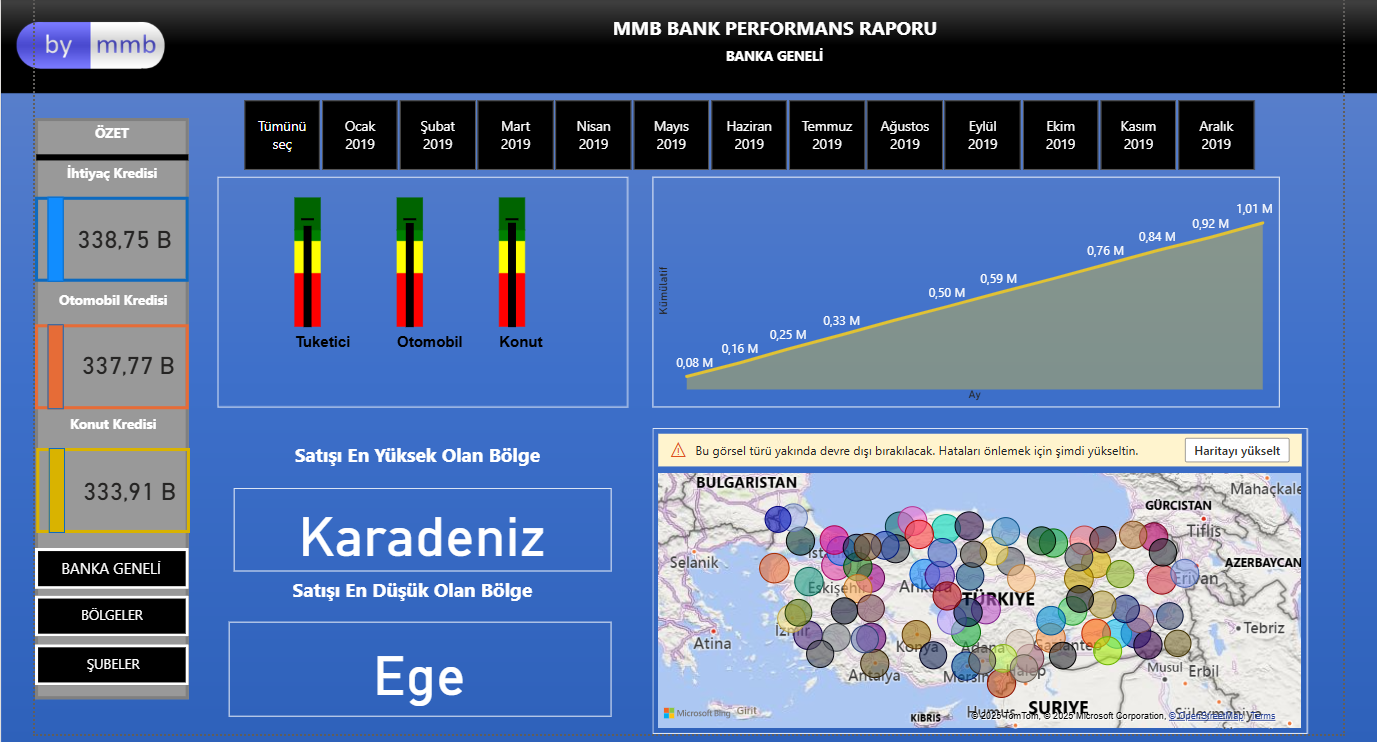

What the dashboard file says about the page in this screenshot:
{"tool":"powerbi","page":{"name":"BANKA","canvas":[1280,720],"ordinal":0},"visuals":[{"type":"textbox","box":[520.9,11,406,46.5],"z":0},{"type":"textbox","box":[604.1,42.8,238.5,30.6],"z":1000},{"type":"shape","box":[0,117.4,150.4,568.6],"z":2000},{"type":"shape","box":[1.2,137,149.2,37.9],"z":3000},{"type":"textbox","box":[0,117.4,150.4,37.9],"z":4000},{"type":"shape","box":[0,194.4,150.4,83.2],"z":5000},{"type":"textbox","box":[0,156.5,150.4,37.9],"z":6000},{"type":"shape","box":[12.2,194.4,15.9,83.2],"z":7000},{"type":"shape","box":[0.2,318.9,150.4,83.2],"z":8000},{"type":"textbox","box":[1.2,281.3,150.4,37.9],"z":9000},{"type":"shape","box":[12.4,318.9,15.9,83.2],"z":10000},{"type":"shape","box":[1.2,440.2,150.4,83.2],"z":11000},{"type":"textbox","box":[1.2,402.3,150.4,37.9],"z":12000},{"type":"shape","box":[13.5,440.2,15.9,83.2],"z":13000},{"type":"shape","box":[0,538,150.4,40.4],"z":14000},{"type":"textbox","box":[15.9,542.9,117.4,35.5],"z":15000},{"type":"shape","box":[0.2,584.2,150.4,40.4],"z":16000},{"type":"textbox","box":[37.9,589.4,74.6,35.5],"z":17000},{"type":"shape","box":[0.2,632.2,150.4,40.4],"z":18000},{"type":"textbox","box":[39.1,637.1,74.6,35.5],"z":19000},{"type":"card","fields":{"Values":["OLCULER.Tüketici Kredisi Toplam Satış"]},"box":[24.5,194.4,127.2,81.9],"z":20000},{"type":"card","fields":{"Values":["OLCULER.Otomobil Kredisi Toplam Satış"]},"box":[28.1,317.9,127.2,81.9],"z":21000},{"type":"card","fields":{"Values":["OLCULER.Konut Kredisi Toplam Satış"]},"box":[29.3,441.4,127.2,81.9],"z":22000},{"type":"slicer","fields":{"Values":["KREDILER.Ay"]},"box":[178.5,92.9,1038.2,81.9],"z":23000},{"type":"BulletChart1443347686880","fields":{"Category":["KREDILER.Kategori"],"Value":["OLCULER.Toplam Kredi Satışı"],"TargetValue":["OLCULER.Toplam Kredi Hedefi"]},"box":[178.7,175.1,401.5,225.3],"z":24000},{"type":"areaChart","fields":{"Category":["KREDILER.Ay"],"Y":["OLCULER.Kümülatif"]},"box":[603.5,175.1,613.3,225.3],"z":25000},{"type":"textbox","box":[227.5,429.7,293.2,41.7],"z":26000},{"type":"card","fields":{"Values":["Min(sube_listesi.Bolgesi)"]},"box":[193.9,478.8,369.7,81.8],"z":27000},{"type":"textbox","box":[222.3,561,293.2,41.7],"z":28000},{"type":"card","fields":{"Values":["Min(sube_listesi.Bolgesi)"]},"box":[189.4,610.6,374.2,92.4],"z":29000},{"type":"map","fields":{"Category":["sube_listesi.Konum"],"Series":["sube_listesi.Konum"],"Size":["OLCULER.Toplam Kredi Satışı"]},"box":[604.1,420.9,640.8,299.5],"z":30000}]}

Visuals, with their boxes on the page's 1280x720 design canvas (x1, y1, x2, y2). These are canvas units, not pixel positions in the 1377x742 screenshot, which may show the page scaled, cropped or inside an application window:
textbox: 521,11,927,58
textbox: 604,43,843,73
shape: 0,117,150,686
shape: 1,137,150,175
textbox: 0,117,150,155
shape: 0,194,150,278
textbox: 0,156,150,194
shape: 12,194,28,278
shape: 0,319,151,402
textbox: 1,281,152,319
shape: 12,319,28,402
shape: 1,440,152,523
textbox: 1,402,152,440
shape: 14,440,29,523
shape: 0,538,150,578
textbox: 16,543,133,578
shape: 0,584,151,625
textbox: 38,589,112,625
shape: 0,632,151,673
textbox: 39,637,114,673
card - OLCULER.Tüketici Kredisi Toplam Satış: 24,194,152,276
card - OLCULER.Otomobil Kredisi Toplam Satış: 28,318,155,400
card - OLCULER.Konut Kredisi Toplam Satış: 29,441,156,523
slicer - KREDILER.Ay: 178,93,1217,175
BulletChart1443347686880 - KREDILER.Kategori x OLCULER.Toplam Kredi Satışı: 179,175,580,400
areaChart - KREDILER.Ay x OLCULER.Kümülatif: 604,175,1217,400
textbox: 228,430,521,471
card - Min(sube_listesi.Bolgesi): 194,479,564,561
textbox: 222,561,516,603
card - Min(sube_listesi.Bolgesi): 189,611,564,703
map - sube_listesi.Konum x sube_listesi.Konum: 604,421,1245,720
